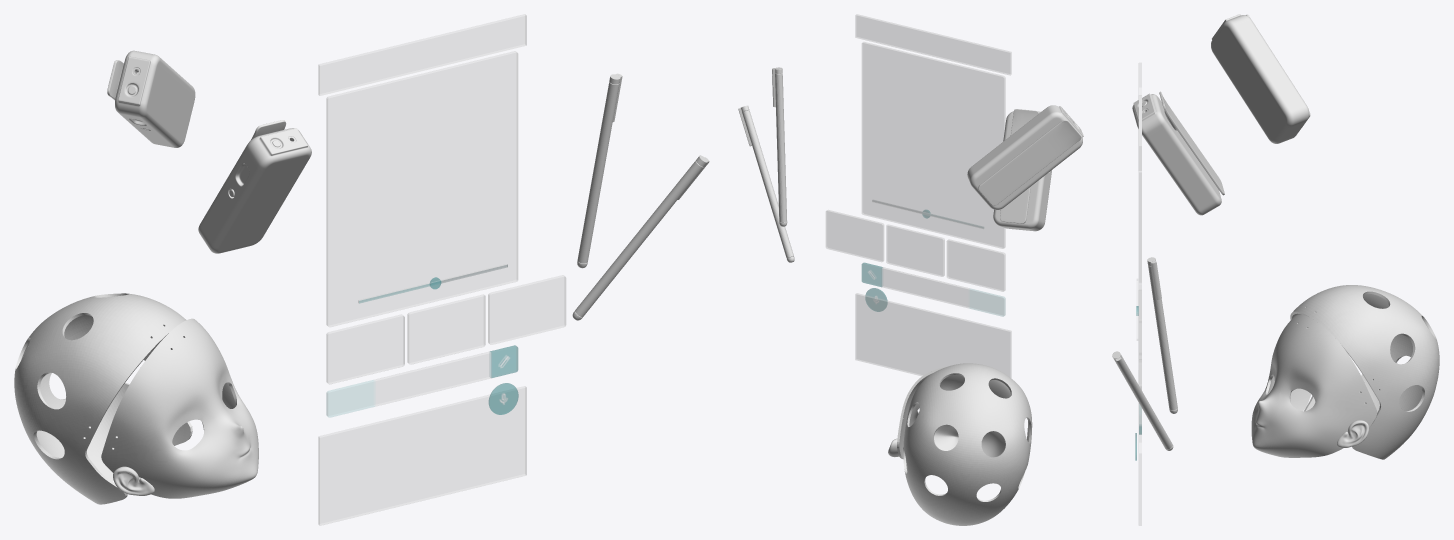
The model's file is bxzm-C31d40Eh.glb.
3 views of the same model, side by side, from view 1: azimuth 30°, elevation 25°; view 2: azimuth 150°, elevation 25°; view 3: azimuth 270°, elevation 25° (orthographic). The views are drawn at different scales.
Visible parts, largest first — view 1: Plane, 6e7dc343-f0f9-444a-b644-ced425d2c32c.36, 6e7dc343-f0f9-444a-b644-ced425d2c32c.001, Cube, Cube.001, Cylinder, Cylinder.001; view 2: Plane, 6e7dc343-f0f9-444a-b644-ced425d2c32c.36, Cube.001, 6e7dc343-f0f9-444a-b644-ced425d2c32c.001, Cube, Cylinder.001, Cylinder, Circle; view 3: 6e7dc343-f0f9-444a-b644-ced425d2c32c.36, 6e7dc343-f0f9-444a-b644-ced425d2c32c.001, Cube.001, Cube, Plane, Cylinder.001, Cylinder.
Boxes of the visible parts, left/top/right/bottom form: Plane: left=318, top=14, right=565, bottom=525; 6e7dc343-f0f9-444a-b644-ced425d2c32c.36: left=14, top=293, right=192, bottom=504; 6e7dc343-f0f9-444a-b644-ced425d2c32c.001: left=101, top=318, right=258, bottom=498; Cube: left=198, top=120, right=311, bottom=253; Cube.001: left=107, top=50, right=195, bottom=147; Cylinder: left=572, top=155, right=709, bottom=320; Cylinder.001: left=577, top=73, right=622, bottom=268; Plane: left=826, top=14, right=1011, bottom=377; 6e7dc343-f0f9-444a-b644-ced425d2c32c.36: left=903, top=363, right=1032, bottom=525; Cube.001: left=967, top=105, right=1083, bottom=209; 6e7dc343-f0f9-444a-b644-ced425d2c32c.001: left=888, top=366, right=1010, bottom=459; Cube: left=993, top=109, right=1051, bottom=231; Cylinder.001: left=772, top=67, right=787, bottom=226; Cylinder: left=738, top=105, right=794, bottom=262; Circle: left=865, top=288, right=887, bottom=311; 6e7dc343-f0f9-444a-b644-ced425d2c32c.36: left=1290, top=285, right=1439, bottom=459; 6e7dc343-f0f9-444a-b644-ced425d2c32c.001: left=1251, top=314, right=1376, bottom=457; Cube.001: left=1211, top=14, right=1310, bottom=143; Cube: left=1132, top=91, right=1224, bottom=215; Plane: left=1138, top=63, right=1141, bottom=525; Cylinder.001: left=1147, top=257, right=1177, bottom=413; Cylinder: left=1112, top=351, right=1173, bottom=450.
Bounding box in the file's own units: 5.78 × 5.3 × 3.73.
Materials: 5 (1 with a texture image).
